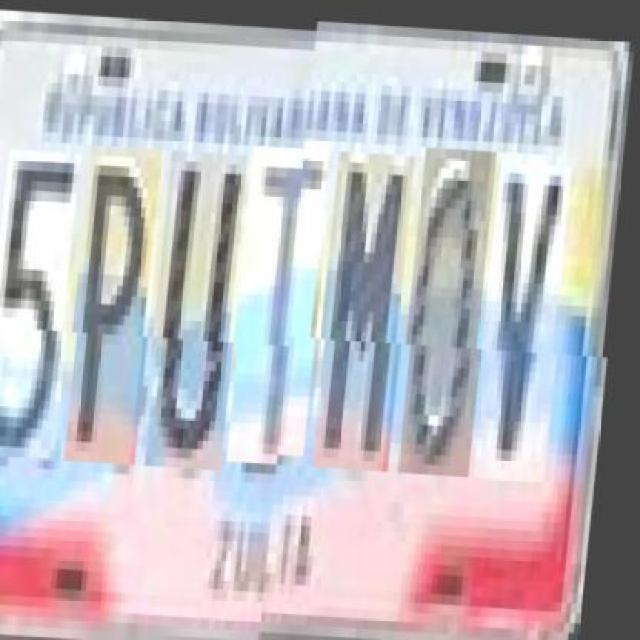5: (0, 150, 89, 458)
m: (321, 156, 422, 476)
o: (407, 151, 504, 480)
p: (75, 143, 170, 463)
t: (236, 142, 336, 462)
u: (155, 148, 256, 468)
v: (482, 154, 580, 483)
